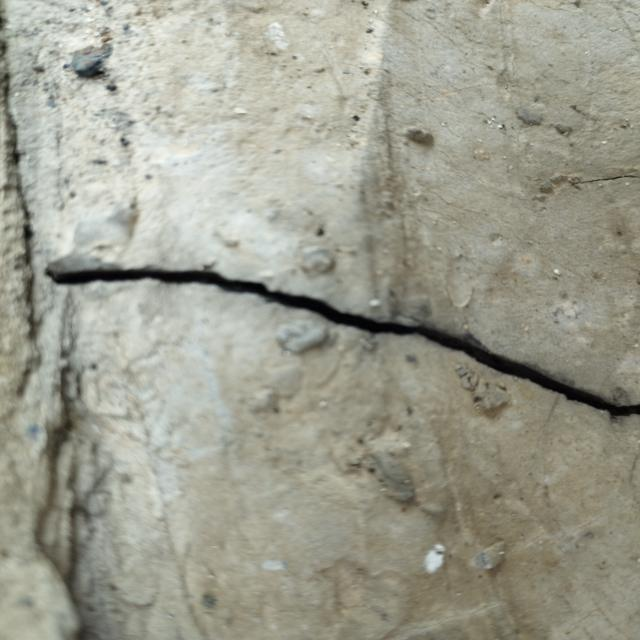horizontal crack: (46, 269, 639, 416)
